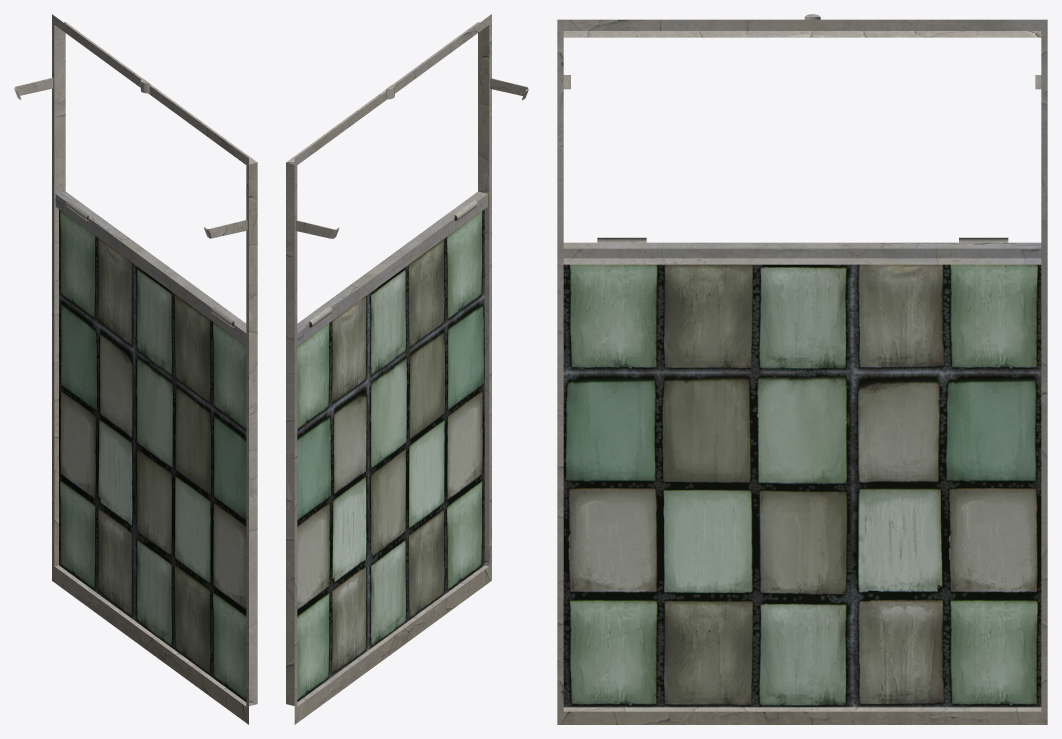
The model's file is Window_BigFrame.fbx.
The picture shows the model from 3 angles, left to right: view 1: azimuth 30°, elevation 25°; view 2: azimuth 150°, elevation 25°; view 3: azimuth 270°, elevation 25°; orthographic projection. The views are drawn at different scales.
Visible parts, largest first — view 1: Window_BigFrame; view 2: Window_BigFrame; view 3: Window_BigFrame.
Part boxes in pixels (x1,y1,x2,y2): Window_BigFrame: (14, 14, 257, 724); Window_BigFrame: (286, 14, 528, 724); Window_BigFrame: (557, 14, 1047, 724).
Bounding box in the file's own units: 0.1831 × 1.95 × 1.23.
